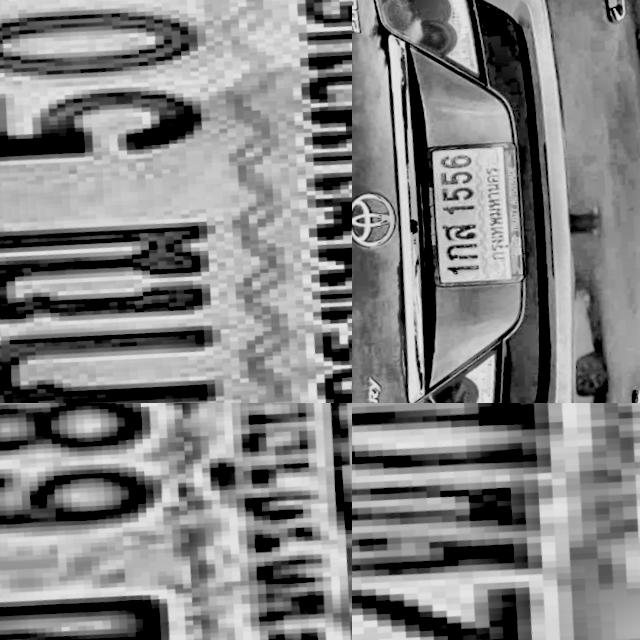license-plate: (0, 0, 352, 403), (0, 403, 352, 640), (352, 403, 640, 640), (415, 128, 539, 290)
